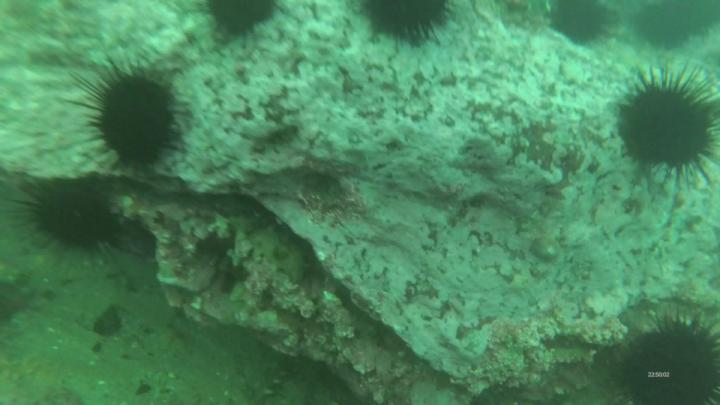echinus: (619, 70, 720, 187), (75, 62, 185, 169), (614, 305, 720, 405), (29, 180, 124, 254), (359, 1, 462, 49), (203, 1, 283, 43), (550, 1, 617, 50), (634, 4, 696, 54)
holothurian: (231, 213, 309, 283)
